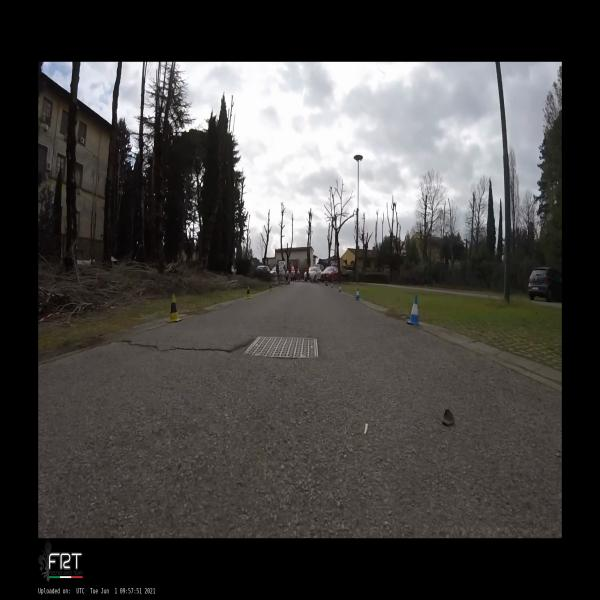blue_cone: (407, 295, 421, 326), (354, 288, 361, 301), (339, 285, 341, 292), (331, 282, 333, 288)
yellow_cone: (167, 294, 182, 322), (245, 287, 252, 298), (269, 284, 273, 290)
